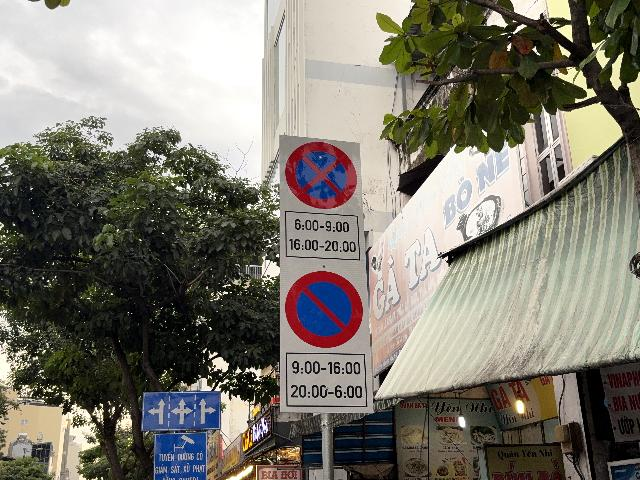cam-do-xe: (284, 270, 363, 348)
cam-dung-va-do-xe: (285, 141, 357, 208)
